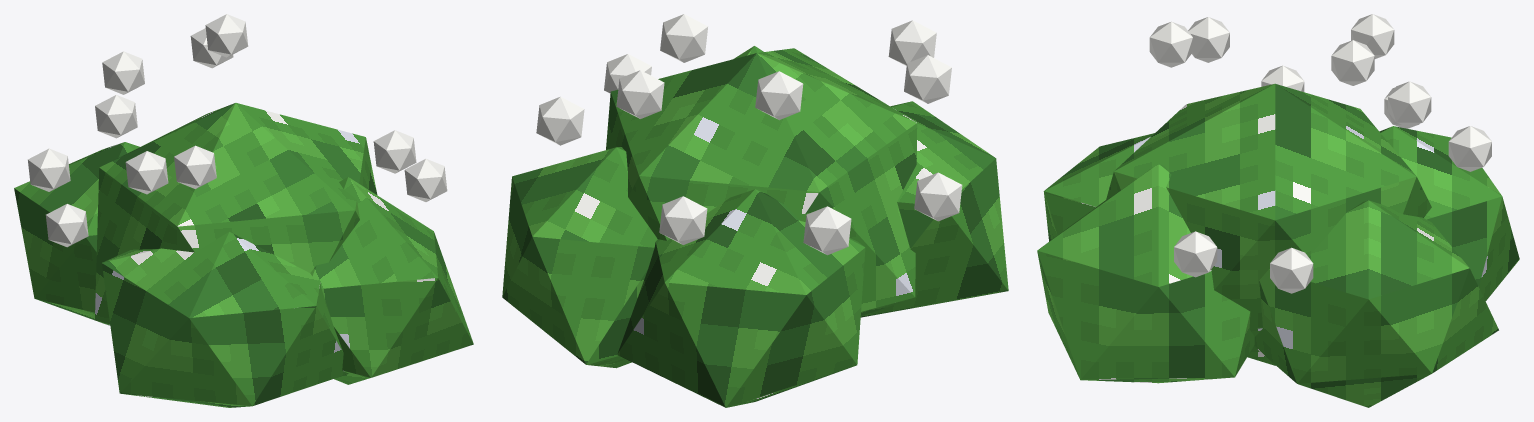
File: bush_white.glb
3 views of the same model, side by side, from view 1: azimuth 30°, elevation 25°; view 2: azimuth 150°, elevation 25°; view 3: azimuth 270°, elevation 25° (orthographic). The views are drawn at different scales.
Parts seen in each view (by area): view 1: bush_white; view 2: bush_white; view 3: bush_white.
Boxes of the visible parts, x1=… form: bush_white: x1=14, y1=14, x2=473, y2=407; bush_white: x1=502, y1=14, x2=1008, y2=407; bush_white: x1=1037, y1=14, x2=1519, y2=407.
Size of the model in its own units: 1.59 by 1.33 by 1.71.
2 materials, 1 textured.
